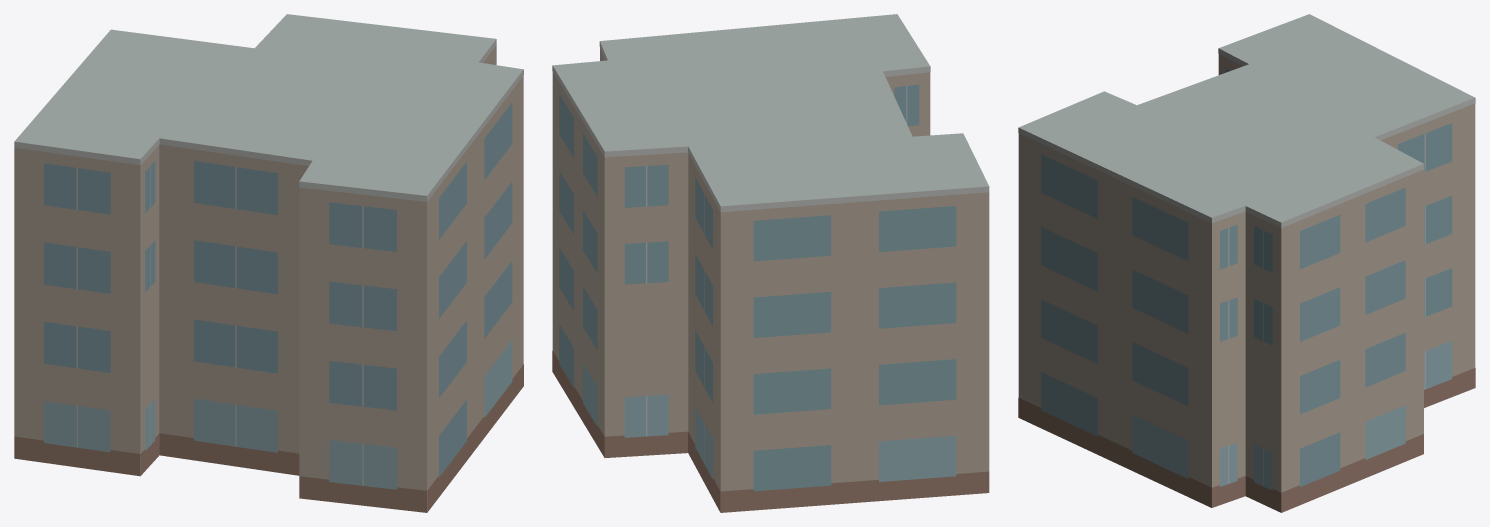
Rendered from survey-upis-32831965.glb.
3 renders of one model, left to right at view 1: azimuth 30°, elevation 25°; view 2: azimuth 150°, elevation 25°; view 3: azimuth 270°, elevation 25°, orthographic. The views are drawn at different scales.
Parts seen in each view (by area): view 1: survey-upis-32831965.tmp; view 2: survey-upis-32831965.tmp; view 3: survey-upis-32831965.tmp.
Boxes of the visible parts, left/top/right/bottom form: survey-upis-32831965.tmp: left=14, top=14, right=523, bottom=512; survey-upis-32831965.tmp: left=552, top=14, right=989, bottom=512; survey-upis-32831965.tmp: left=1018, top=14, right=1475, bottom=512.
Bounding box in the file's own units: 19.74 × 12.8 × 18.27.
